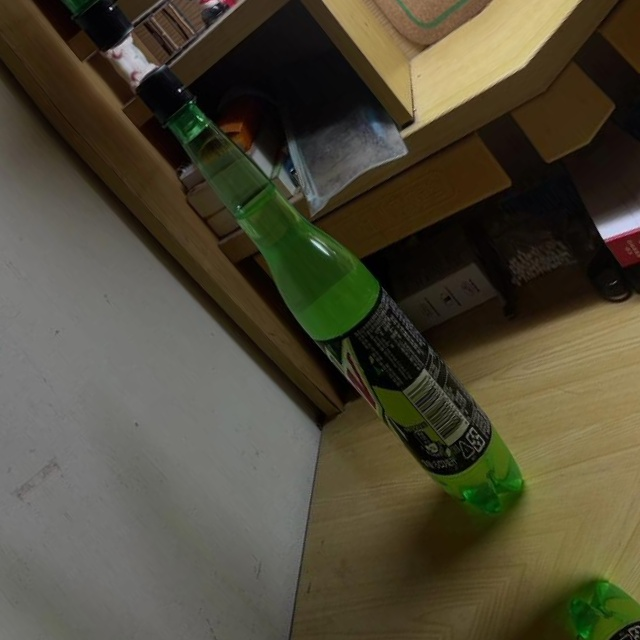Mountain-Dew: (112, 47, 543, 536)
